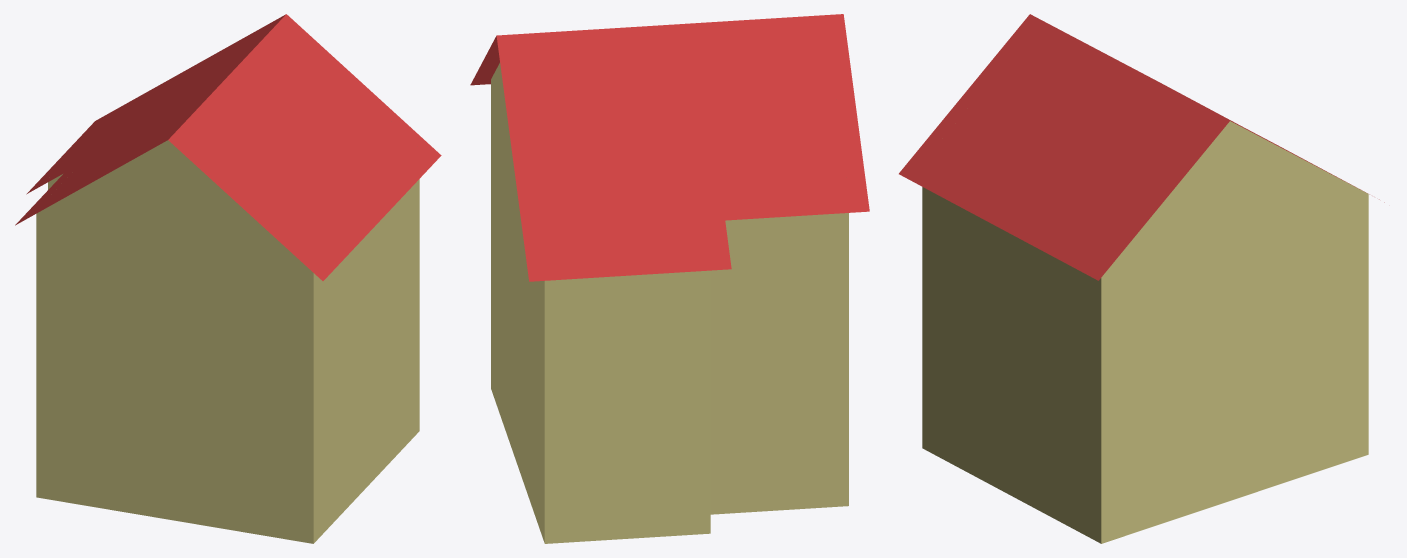
3 views of the same model, side by side, from view 1: azimuth 30°, elevation 25°; view 2: azimuth 150°, elevation 25°; view 3: azimuth 270°, elevation 25° (orthographic). The views are drawn at different scales.
Bounding box in the file's own units: 13.51 × 14.51 × 12.61.
